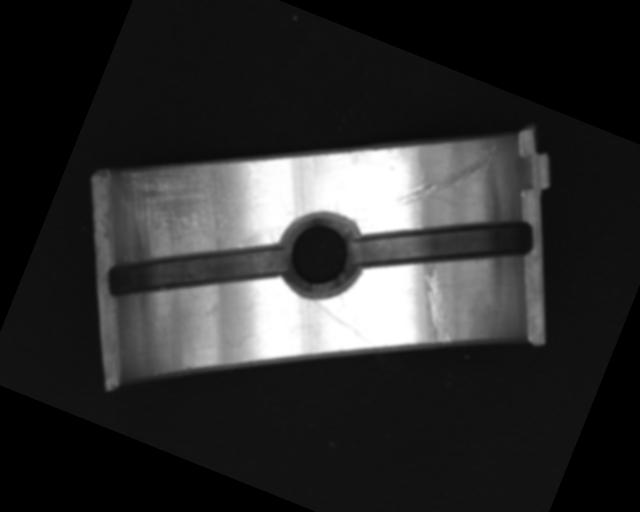gap: (101, 191, 291, 350), (351, 169, 538, 320)
hole: (263, 198, 378, 313)
nick: (394, 114, 499, 231), (401, 262, 475, 349), (304, 299, 385, 349)
scratch: (92, 129, 254, 281)
